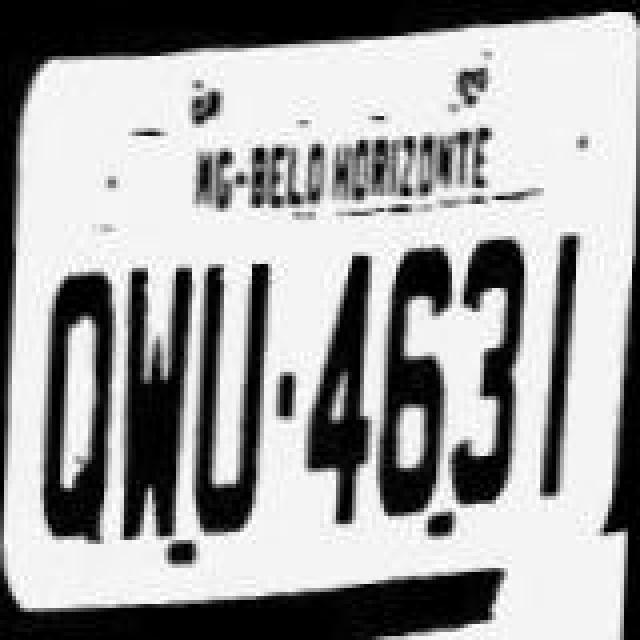1: (528, 226, 596, 494)
3: (446, 232, 534, 500)
4: (300, 246, 384, 530)
6: (368, 244, 460, 516)
Q: (26, 272, 126, 544)
U: (188, 254, 280, 534)
W: (112, 264, 196, 540)
